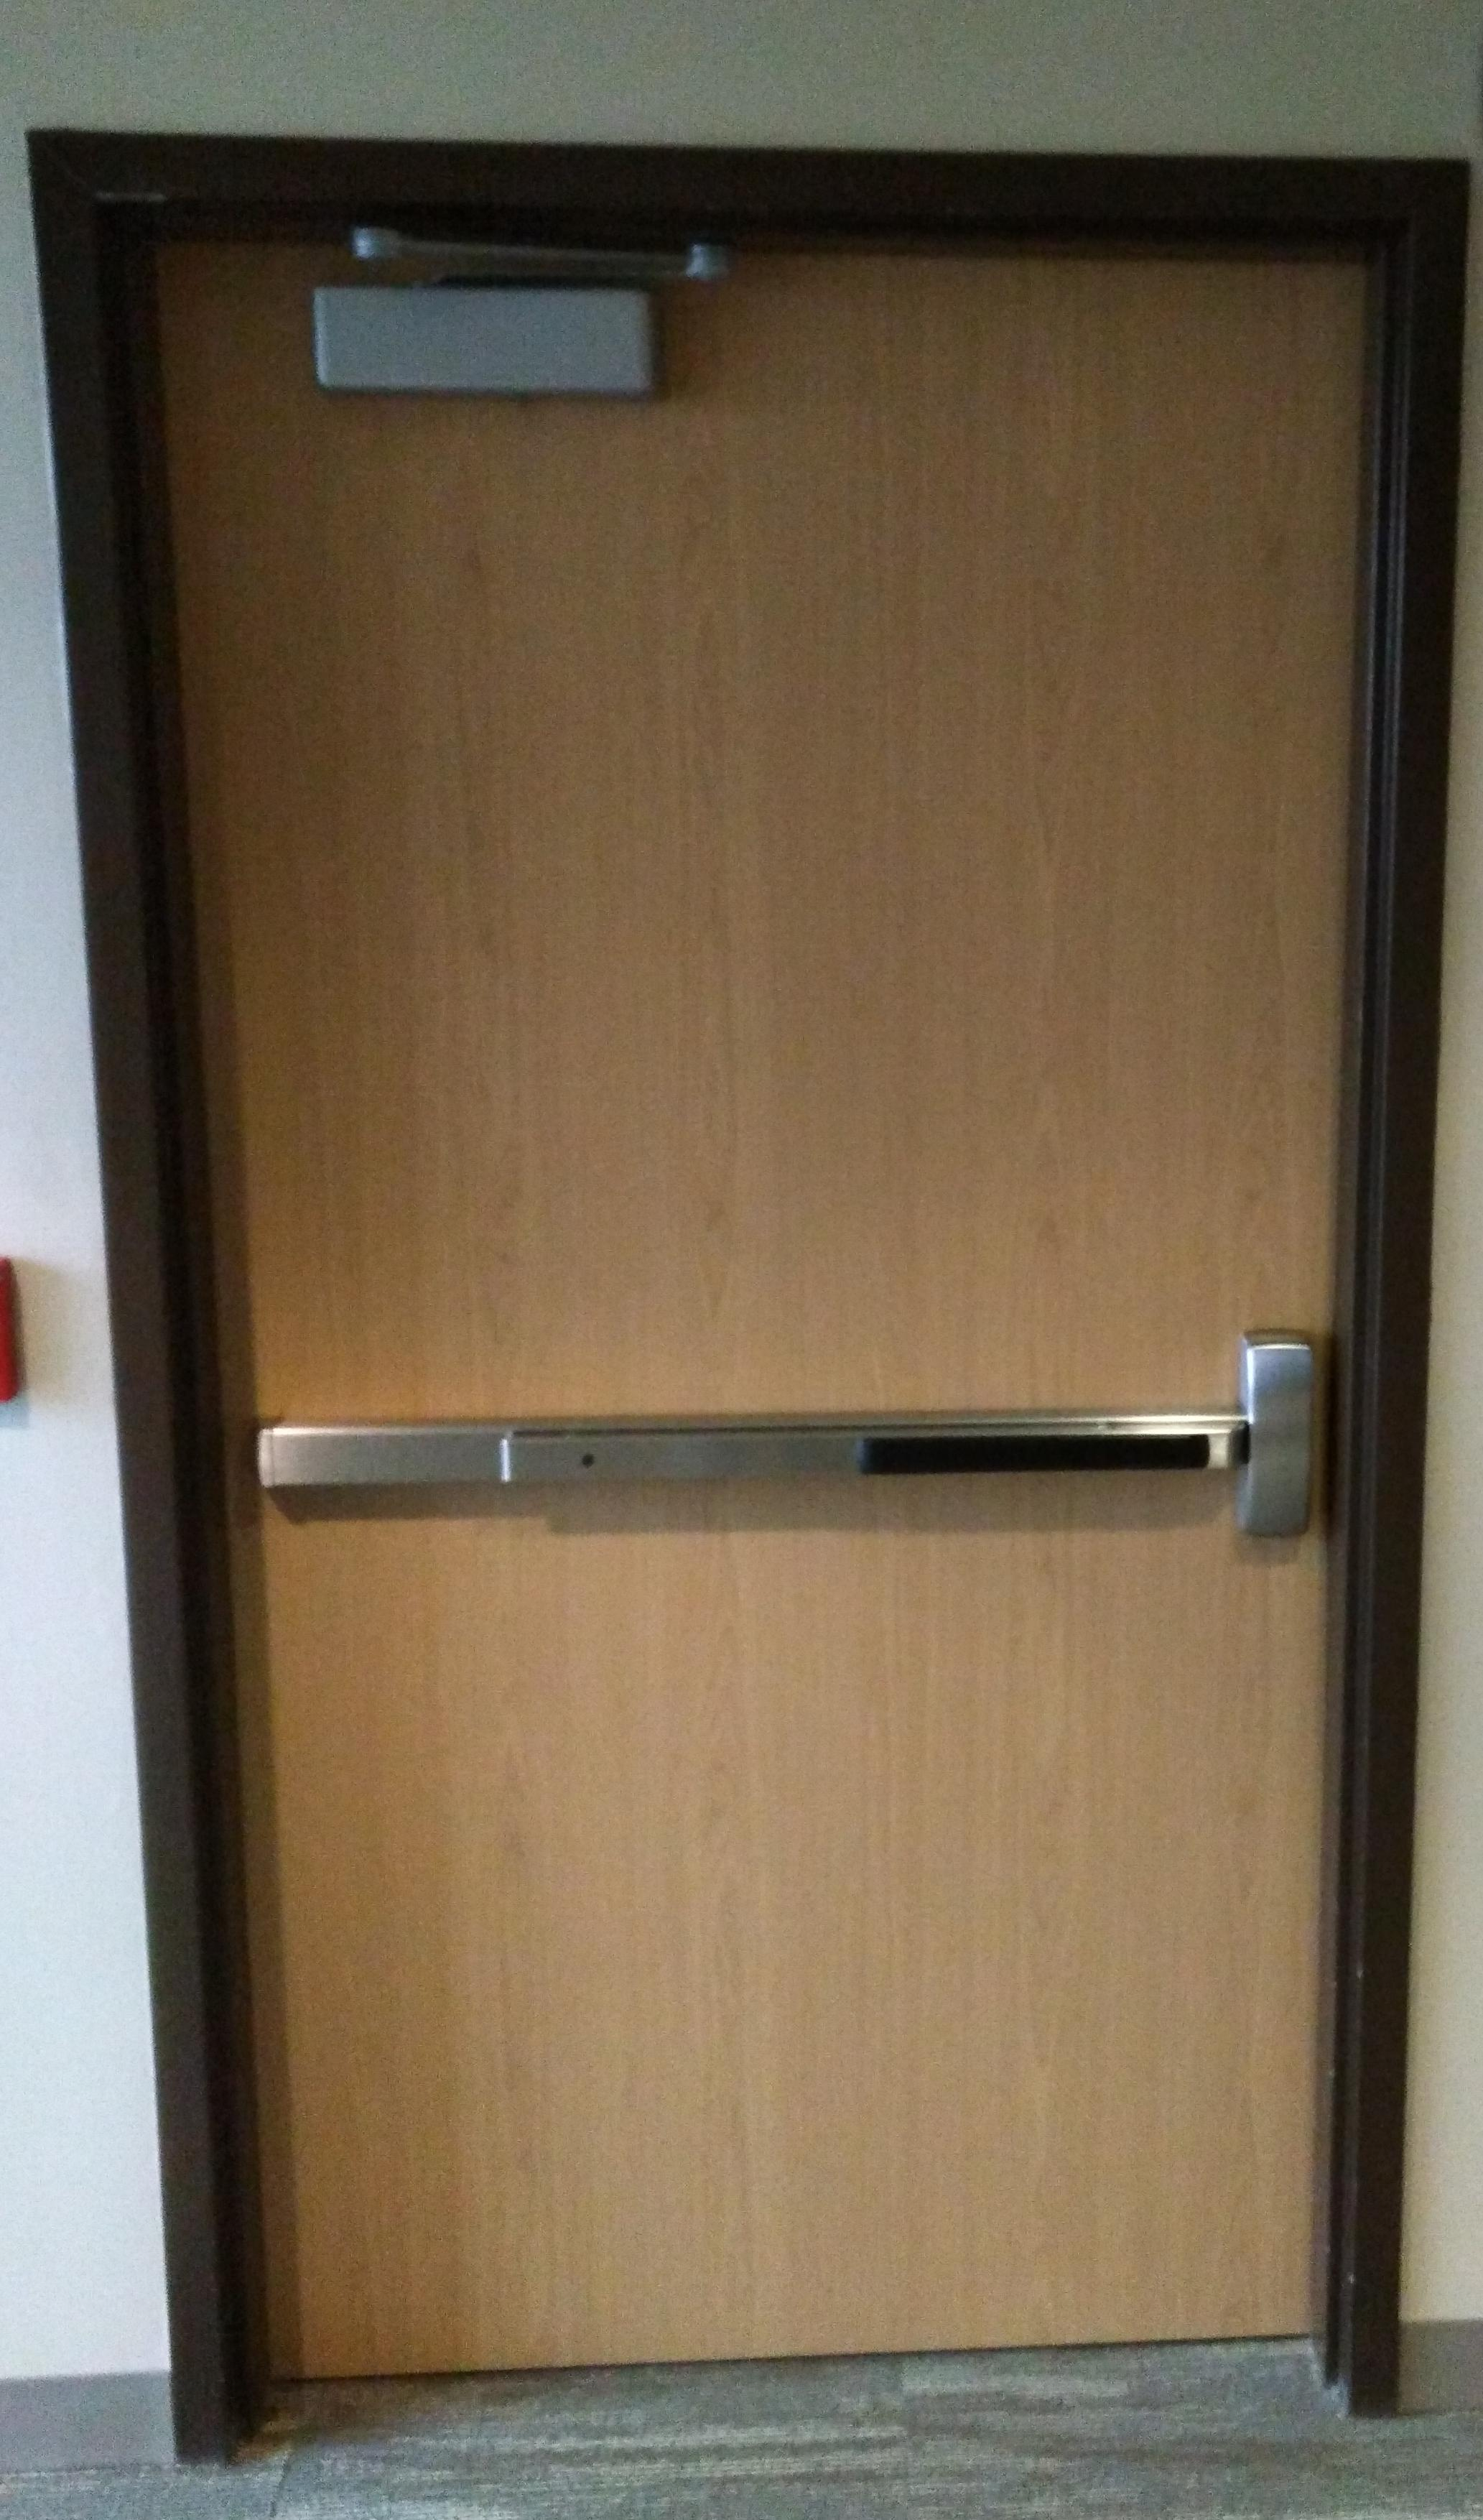door: (34, 131, 1474, 2460)
